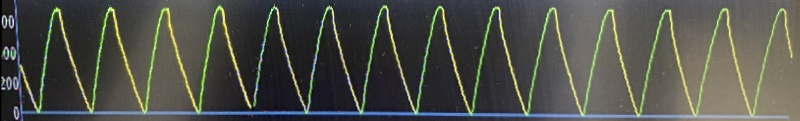normal_volume: (30, 0, 760, 119)
